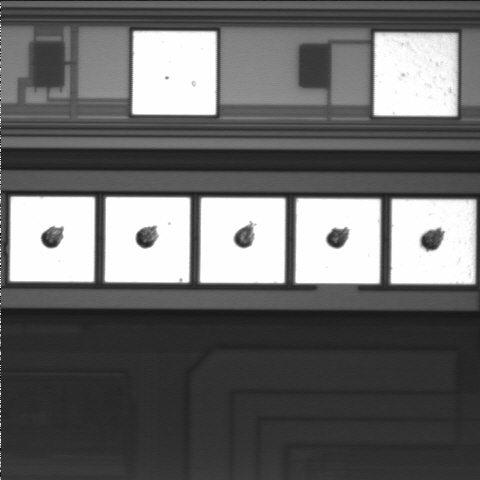pad: (105, 197, 190, 283), (10, 197, 95, 282), (200, 198, 285, 283), (391, 199, 476, 284), (295, 199, 380, 283), (132, 31, 216, 115), (374, 33, 457, 116)
